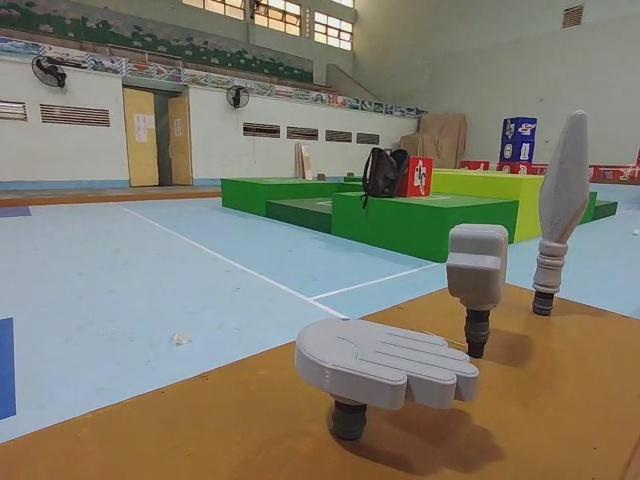Fist: (443, 223, 508, 359)
Hand: (293, 315, 485, 454)
Sph: (529, 110, 591, 318)
